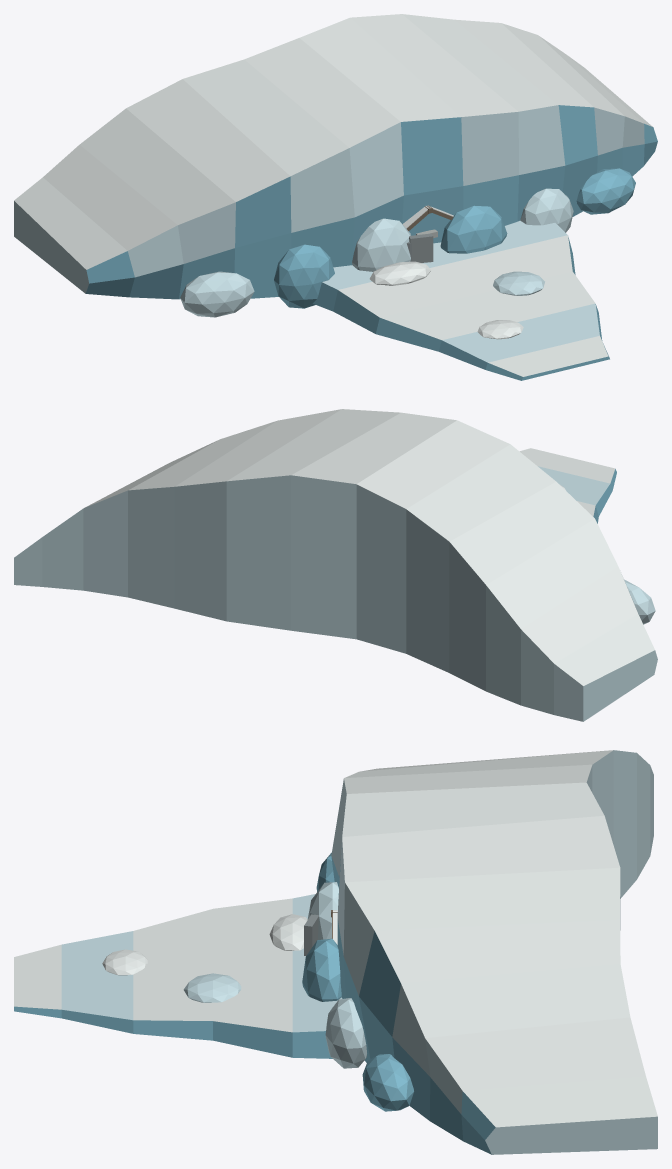
Rendered from glacial_environment_kit_v1.glb.
3 views of the same model, one above another, from view 1: azimuth 30°, elevation 25°; view 2: azimuth 150°, elevation 25°; view 3: azimuth 270°, elevation 25° (orthographic). The views are drawn at different scales.
Parts seen in each view (by area): view 1: GlacierTerminus, GlacierTongue, FrozenObservatory, FrostlineRefuge; view 2: GlacierTerminus, GlacierTongue; view 3: GlacierTerminus, GlacierTongue.
Boxes of the visible parts, <box> form: GlacierTerminus: <box>14,14,657,317</box>; GlacierTongue: <box>313,220,609,380</box>; FrozenObservatory: <box>406,233,433,262</box>; FrostlineRefuge: <box>402,205,453,237</box>; GlacierTerminus: <box>14,409,657,721</box>; GlacierTongue: <box>519,448,616,523</box>; GlacierTerminus: <box>302,750,657,1154</box>; GlacierTongue: <box>14,894,342,1058</box>.
Size of the model in its own units: 98 by 28.26 by 80.84.
